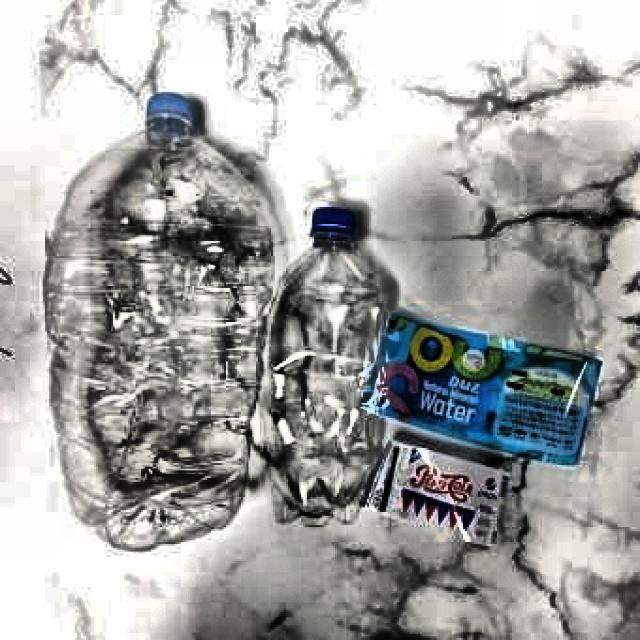Bottles: (18, 60, 258, 572), (256, 173, 396, 551)
